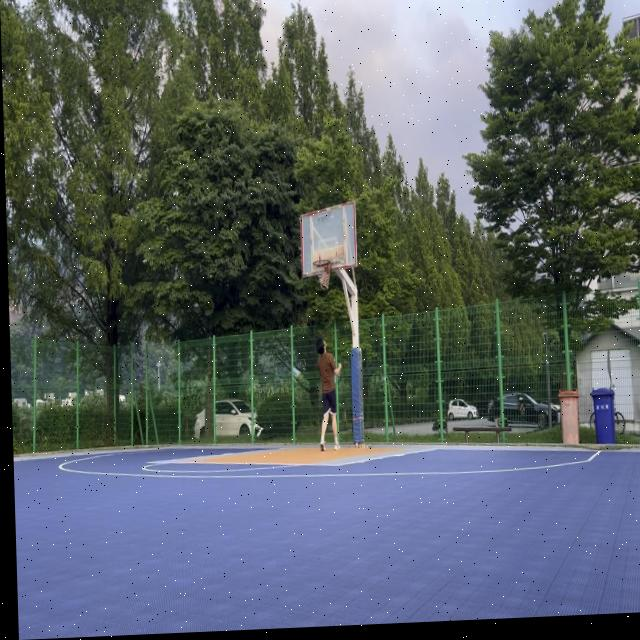basketball: (320, 271, 330, 290)
hoop: (312, 259, 332, 290), (313, 259, 332, 290)
